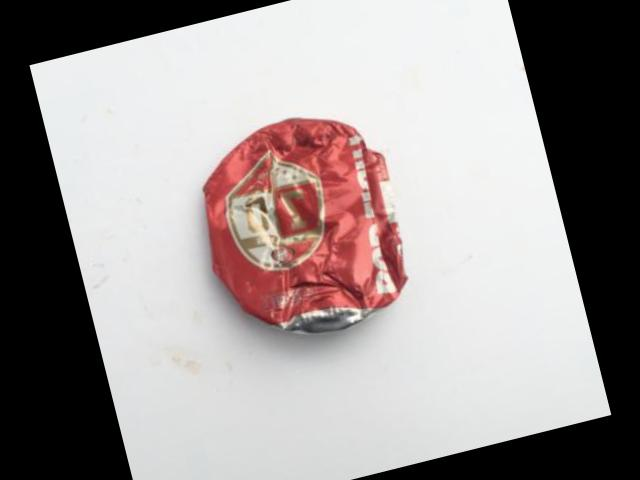metal: (202, 116, 404, 330)
